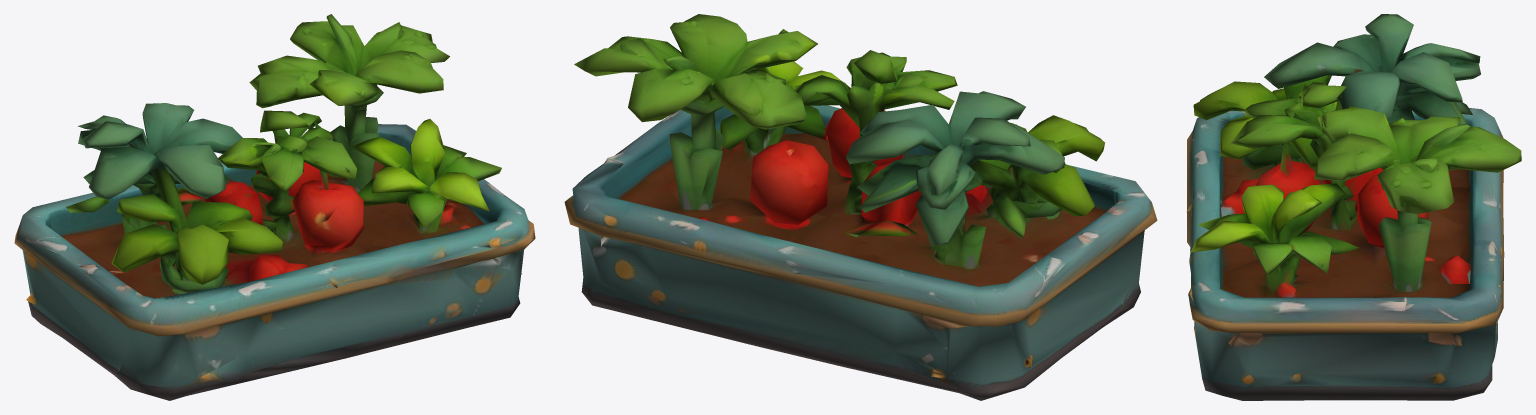
File: utility_garden_3000.glb
3 views of the same model, side by side, from view 1: azimuth 30°, elevation 25°; view 2: azimuth 150°, elevation 25°; view 3: azimuth 270°, elevation 25° (orthographic). The views are drawn at different scales.
Parts seen in each view (by area): view 1: tripo_node_c37b4423-c5a3-484e-97e4-07a33473f75e; view 2: tripo_node_c37b4423-c5a3-484e-97e4-07a33473f75e; view 3: tripo_node_c37b4423-c5a3-484e-97e4-07a33473f75e.
Boxes of the visible parts, box(x1,y1,x2,y2) form: tripo_node_c37b4423-c5a3-484e-97e4-07a33473f75e: box(14, 14, 535, 400); tripo_node_c37b4423-c5a3-484e-97e4-07a33473f75e: box(564, 14, 1157, 400); tripo_node_c37b4423-c5a3-484e-97e4-07a33473f75e: box(1186, 14, 1521, 400).
Size of the model in its own units: 0.9825 by 0.5208 by 0.6636.
1 material, 1 textured.
